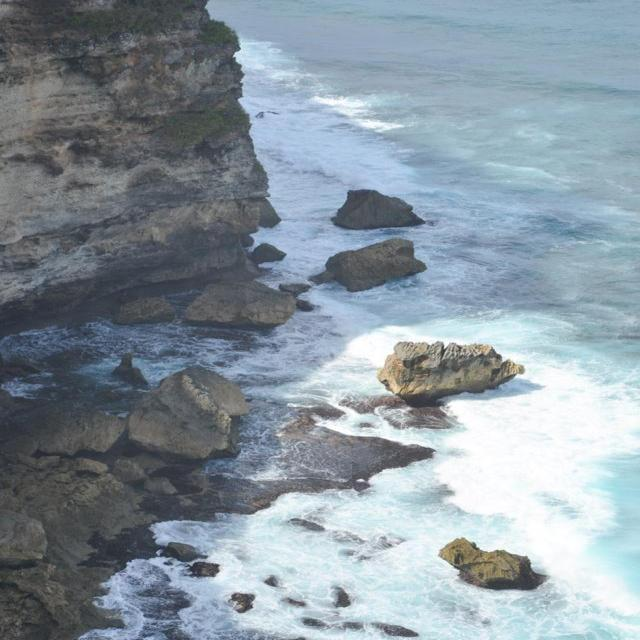reef: (48, 347, 377, 547), (268, 154, 496, 416)
